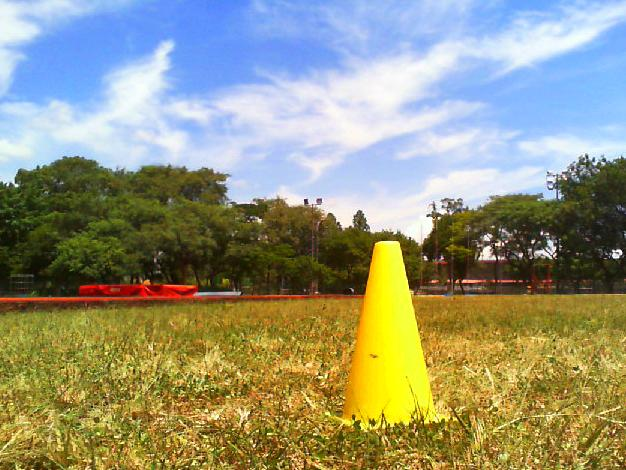0 cone: (332, 242, 456, 432)
